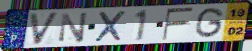1: (133, 9, 149, 42)
F: (161, 6, 196, 42)
G: (194, 6, 225, 39)
N: (58, 11, 90, 44)
V: (27, 11, 60, 47)
X: (93, 9, 128, 43)
